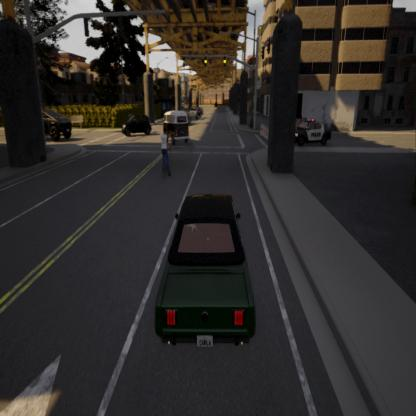Cars: (150, 187, 267, 362), (290, 104, 338, 152), (118, 103, 154, 147), (161, 97, 191, 148), (41, 106, 74, 145), (156, 123, 175, 182)
